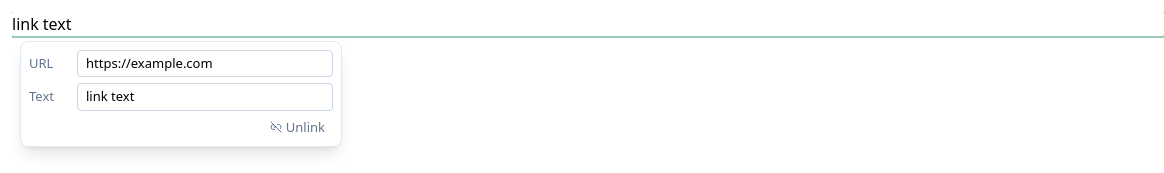
Test case: LinkEditorPopover — link mark mode (DOC-4.7-01) › DOC-4.7-09: Escape key reverts URL draft to original value
// Change the draft without committing (stay in the input).
Step 1. Replace the text in the field showing "https://example.com" next to "URL" with "https://modified.com" → (205, 64), box left=77, top=50, right=333, bottom=77
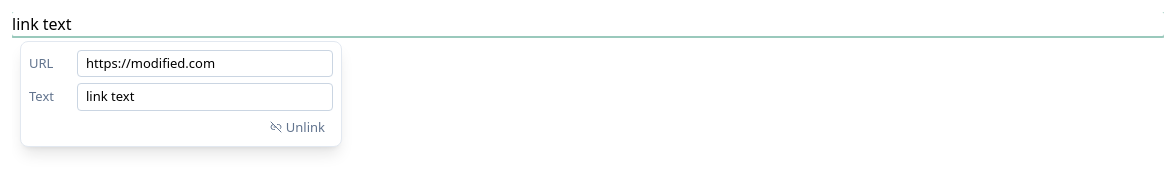
// Escape should revert the draft without committing to the editor.
Step 2. Press Escape in the field showing "https://example.com" next to "URL", box left=77, top=50, right=333, bottom=77
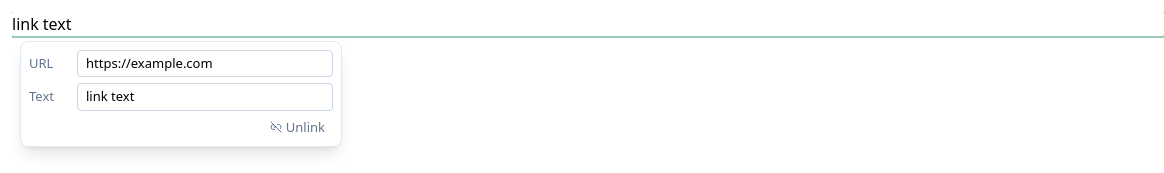
Expected: the field showing "https://example.com" next to "URL" holds "https://example.com", left=77, top=50, right=333, bottom=77
